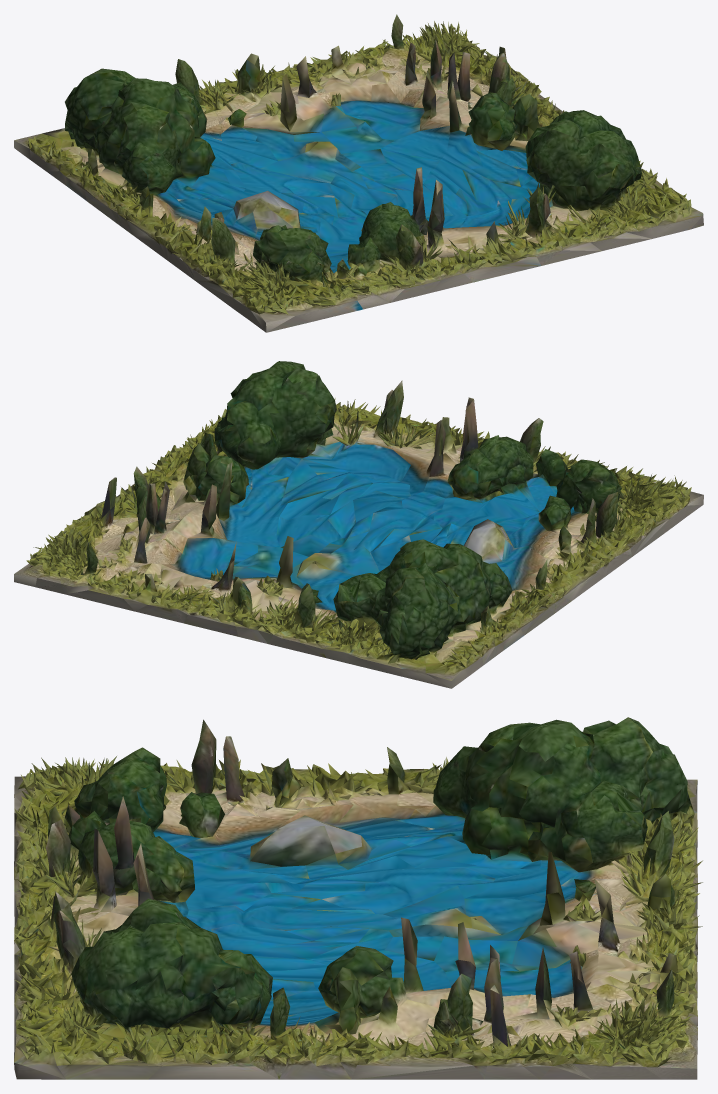
Rendered from lago.glb.
3 views of the same model, one above another, from view 1: azimuth 30°, elevation 25°; view 2: azimuth 150°, elevation 25°; view 3: azimuth 270°, elevation 25° (orthographic). The views are drawn at different scales.
Size of the model in its own units: 2 by 0.3843 by 2.
1 material, 1 textured.
